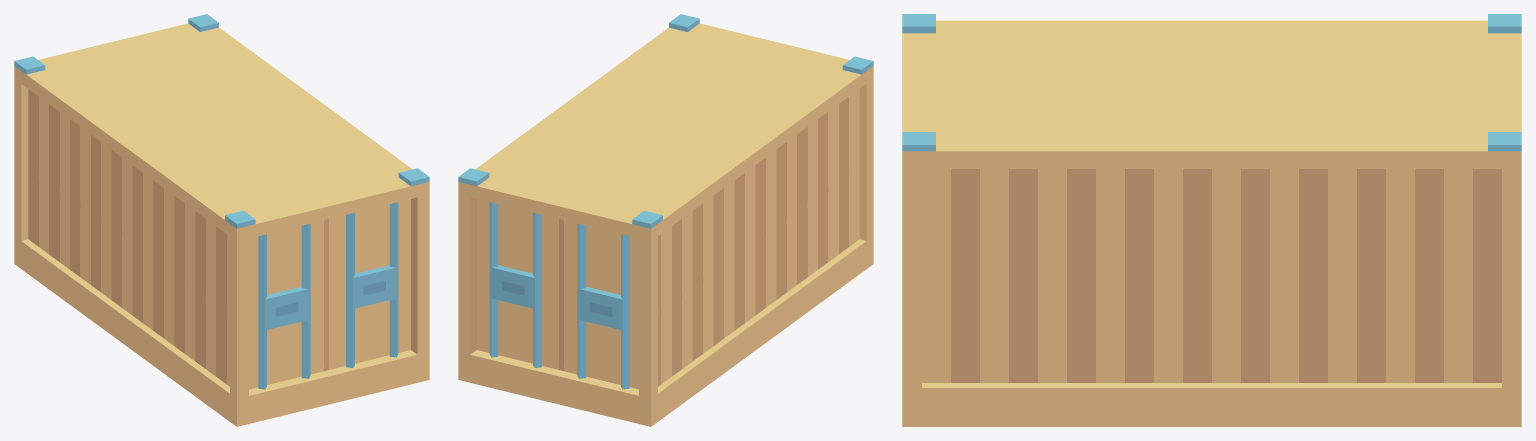
File: container-b.glb
3 views of the same model, side by side, from view 1: azimuth 30°, elevation 25°; view 2: azimuth 150°, elevation 25°; view 3: azimuth 270°, elevation 25° (orthographic). The views are drawn at different scales.
Visible parts, largest first — view 1: shippingContainer-lemon; view 2: shippingContainer-lemon; view 3: shippingContainer-lemon.
Boxes of the visible parts, <box> form: shippingContainer-lemon: <box>14,14,429,426</box>; shippingContainer-lemon: <box>458,14,873,426</box>; shippingContainer-lemon: <box>902,14,1521,426</box>.
Bounding box in the file's own units: 2.5 × 2.51 × 5.
Materials: 1 (1 with a texture image).
